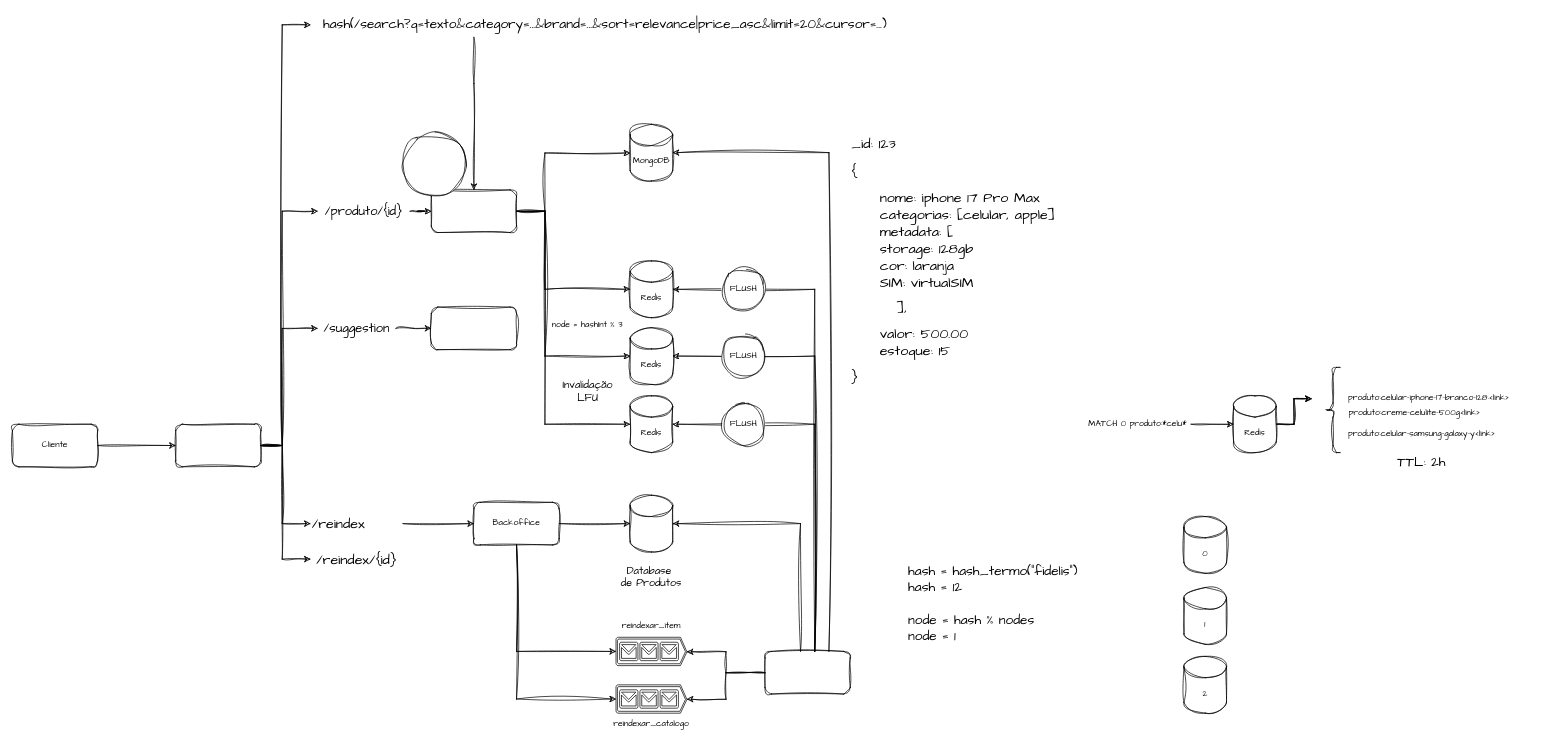
Some shapes in this 1558 by 746 pixel diagram are drawn without their labels. The shapes that lost their labels are listed below. From the top down, each one's centre as x and y in pixels, then its label:
pixel 434 164: Normalização
pixel 474 211: Search Engine
pixel 474 328: Term Engine
pixel 218 445: API Gateway
pixel 651 523: DB MySQL
pixel 807 672: Reindex
